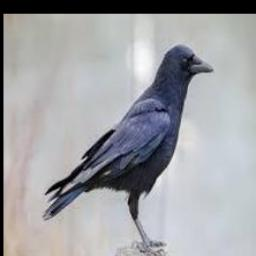Crow: (42, 44, 213, 256)
